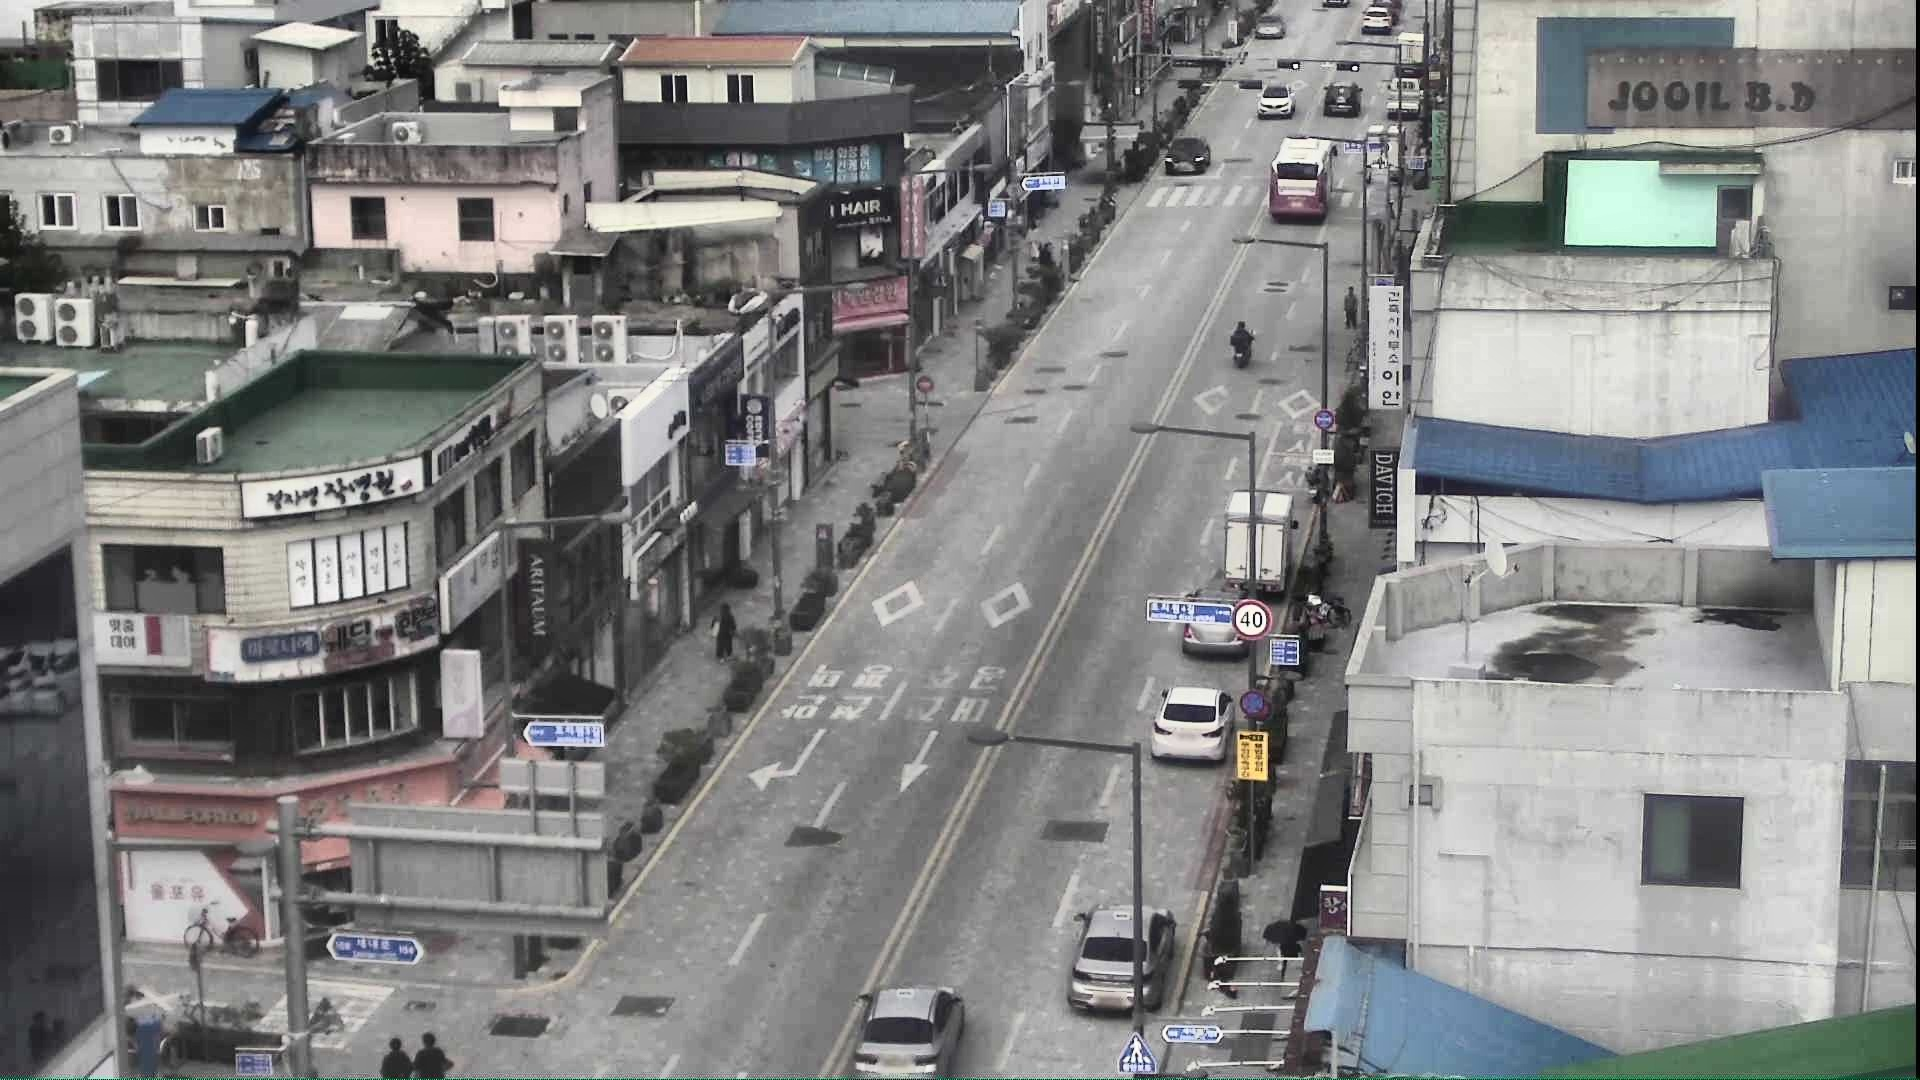jaywalk: (1341, 282, 1360, 330)
sidewalk: (709, 599, 741, 666), (1025, 219, 1040, 265)
um_sidewalk: (1261, 916, 1308, 992)
